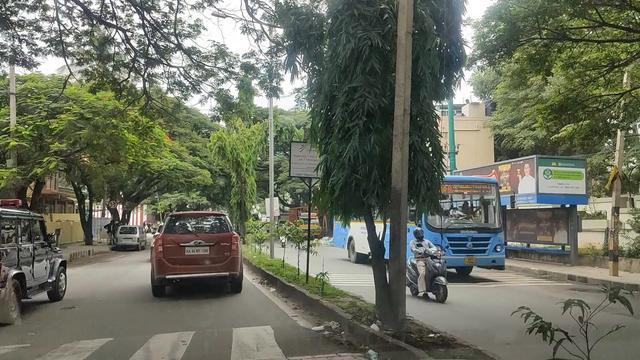LMV: (155, 211, 242, 289)
SpeedBump: (69, 333, 314, 360)
